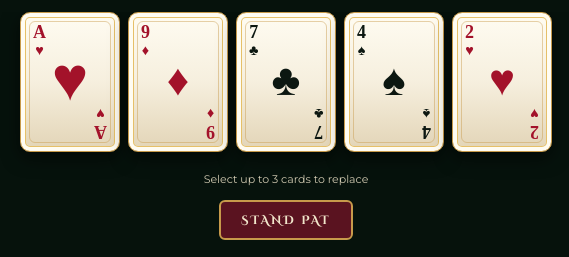
Test: DiscardControls › marking 3 cards then unmarking one allows marking a 4th
Click the button "A ♥ ♥ A ♥": (70, 86) [20, 12, 120, 159]
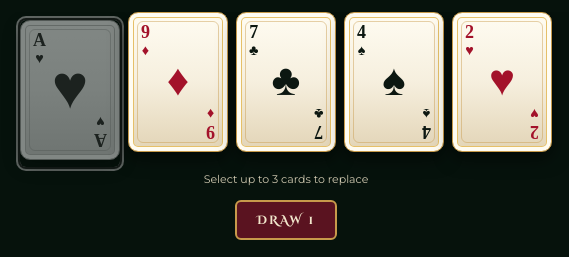
Click the button "9 ♦ ♦ 9 ♦": (178, 86) [128, 12, 228, 159]
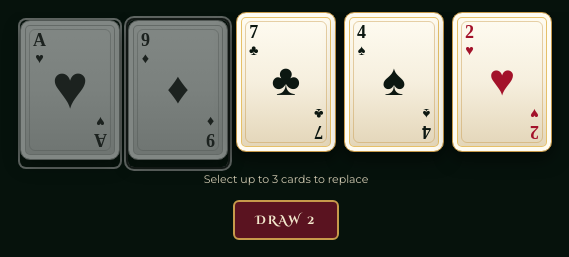
Click the button "7 ♣ ♣ 7 ♣": (286, 86) [236, 12, 336, 159]
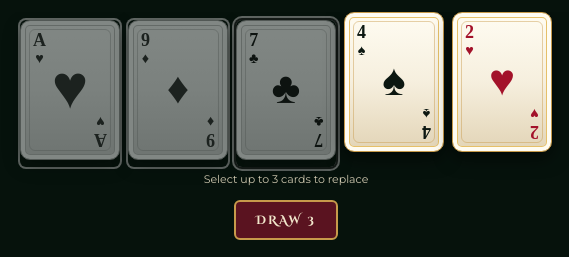
Click the button "9 ♦ ♦ 9 ♦": (178, 94) [128, 20, 228, 167]
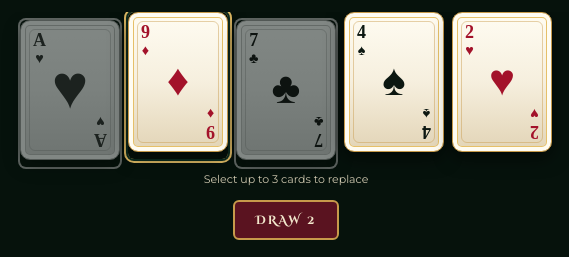
Click the button "4 ♠ ♠ 4 ♠": (394, 86) [344, 12, 444, 159]
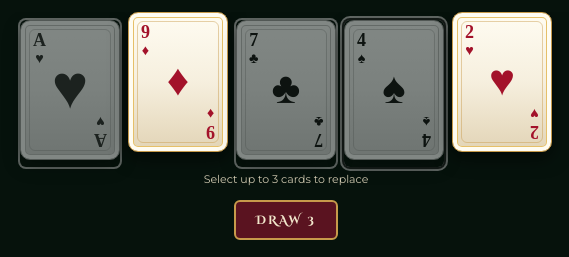
Expected: the button "DRAW 3" is shown, [234, 200, 338, 240]
